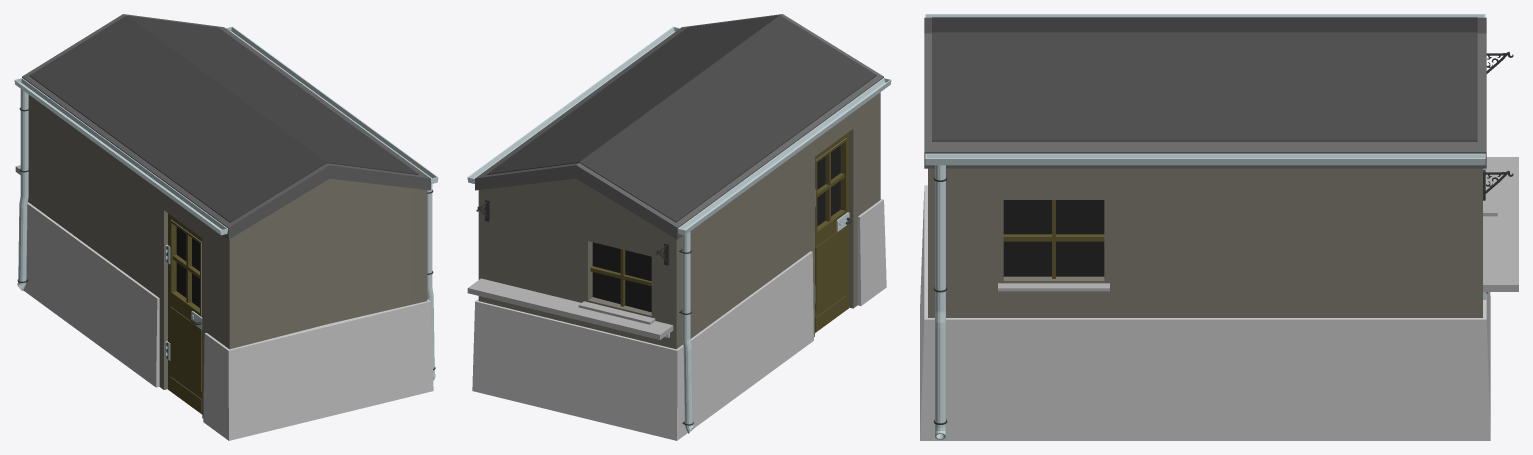
File: GardenShed01.fbx
3 views of the same model, side by side, from view 1: azimuth 30°, elevation 25°; view 2: azimuth 150°, elevation 25°; view 3: azimuth 270°, elevation 25° (orthographic). The views are drawn at different scales.
Visible parts, largest first — view 1: Shed01; view 2: Shed01; view 3: Shed01.
Boxes of the visible parts, x1,y1,x2,y2 form: Shed01: [14, 14, 438, 440]; Shed01: [467, 14, 891, 440]; Shed01: [920, 14, 1518, 440].
Size of the model in its own units: 10.27 by 11.06 by 17.61.
